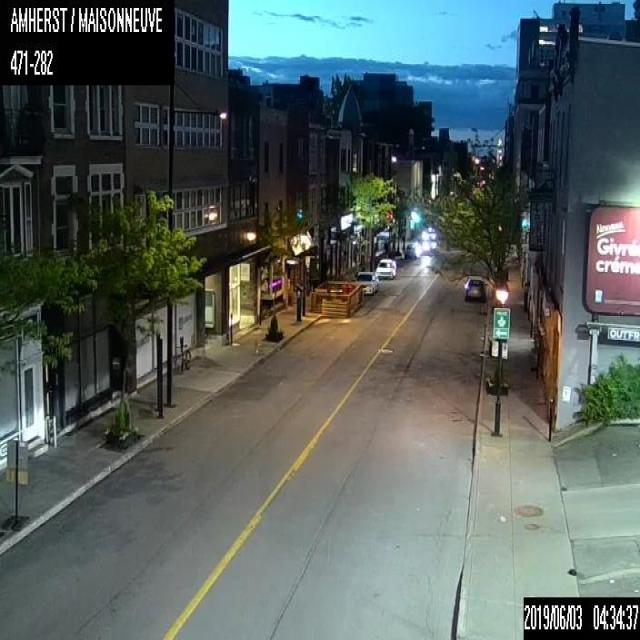vehicle: (354, 270, 378, 294), (463, 278, 486, 302), (374, 256, 396, 277), (404, 242, 418, 259), (421, 224, 435, 241)
